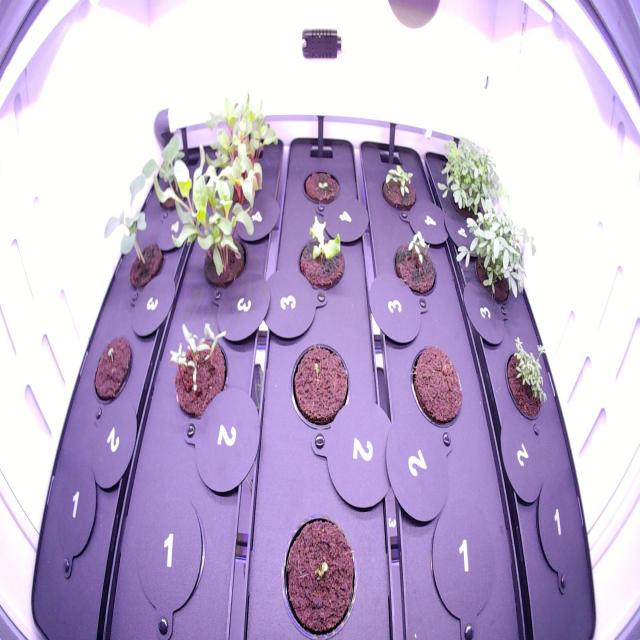empty_pod: (423, 491, 501, 620), (132, 489, 206, 608), (528, 476, 586, 585), (46, 457, 100, 563)
germination: (274, 503, 364, 637), (164, 312, 233, 429), (500, 324, 554, 431), (386, 224, 442, 311), (87, 322, 138, 410), (294, 155, 346, 214), (377, 154, 422, 218)
pod: (285, 336, 354, 440), (403, 338, 468, 437)
young: (292, 206, 353, 302)
